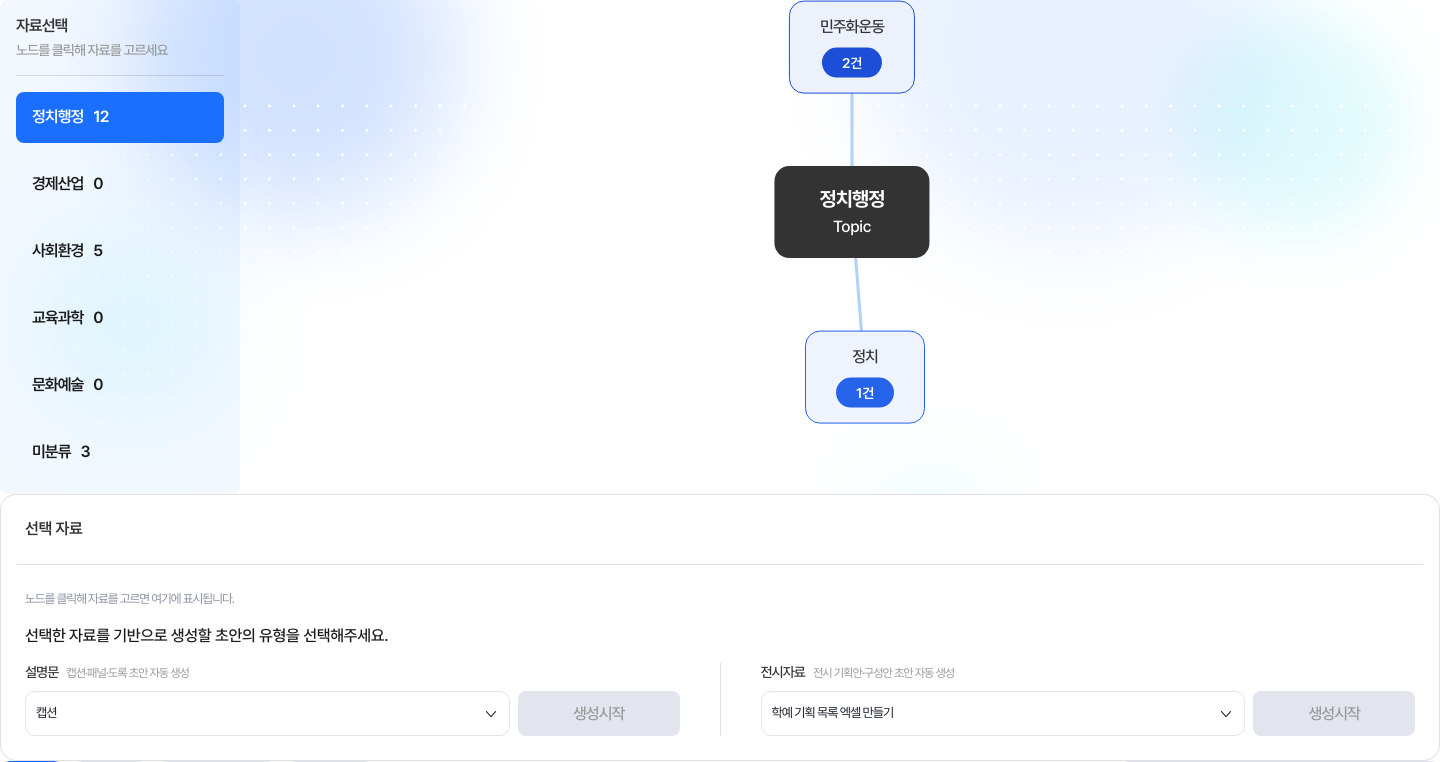
Test: 선택 → 생성 › 노드 선택이 칩과 건수로 올라온다
What coordinates should you click on to do the following:
click the button "민주화운동 2건"
I would click on:
 (852, 47)
Its box is [789, 1, 915, 93].
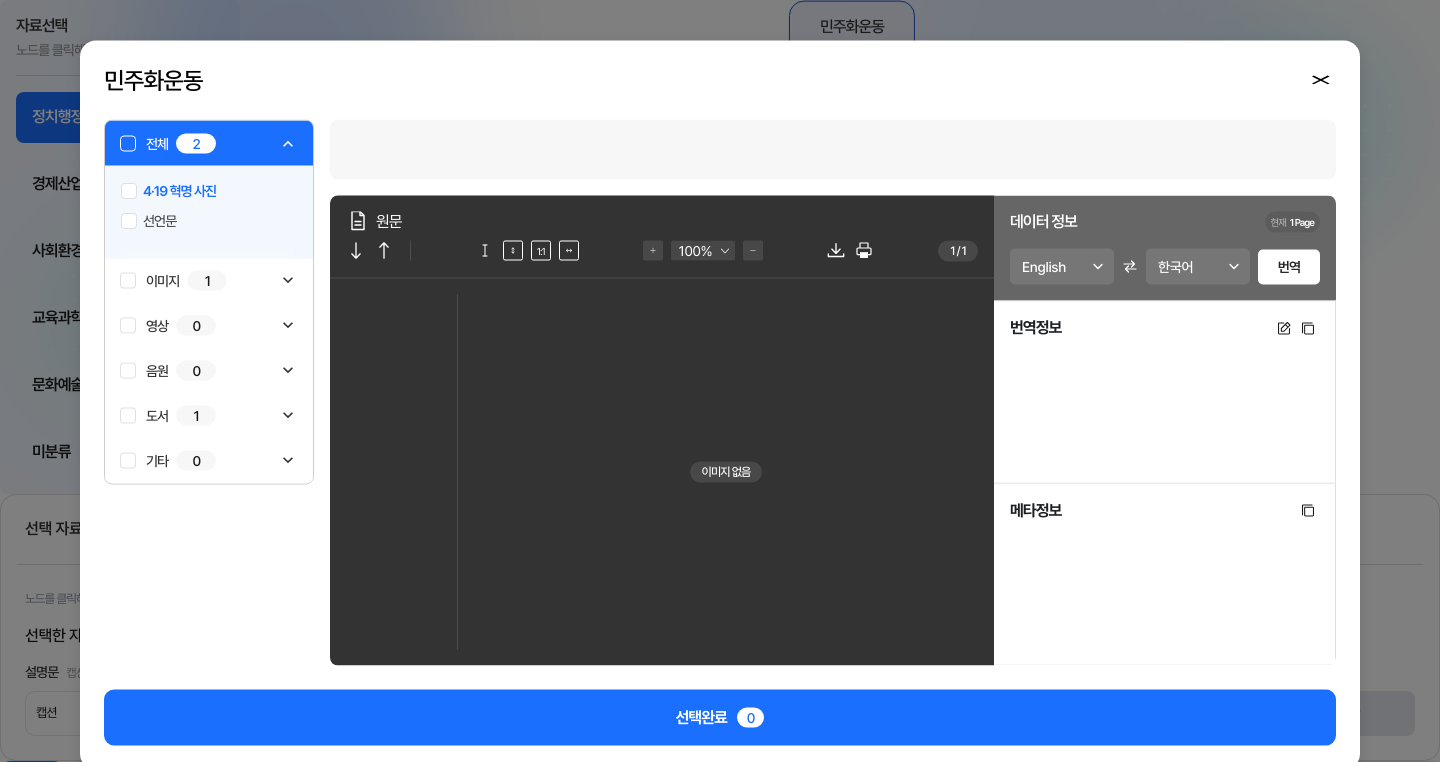
What coordinates should you click on to do the following:
click the checkbox named "전체 전체 선택"
I would click on:
 (128, 143)
Its box is [120, 135, 136, 151].
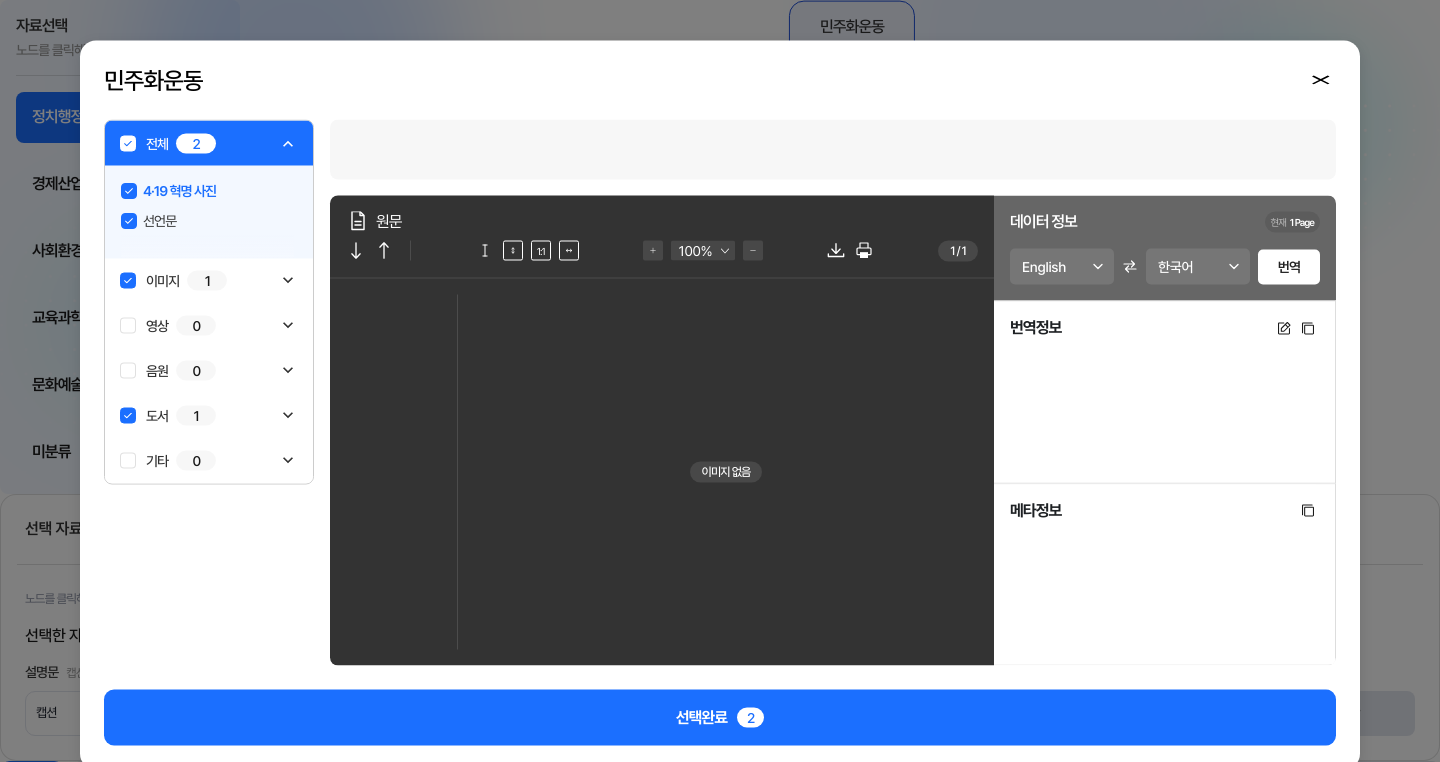
What coordinates should you click on to do the following:
click the button "선택완료 2"
I would click on:
 (720, 718)
Its box is [104, 690, 1336, 746].
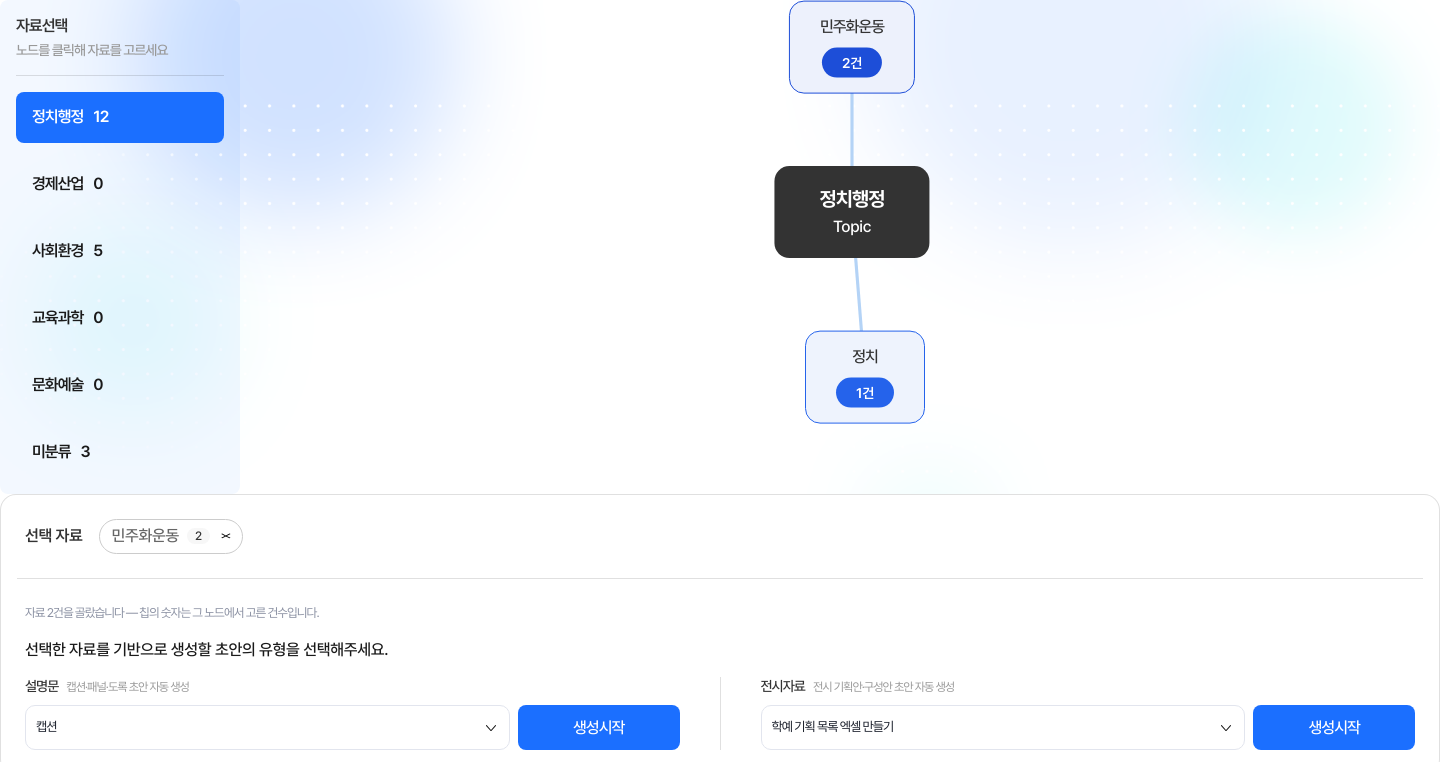
expect the text "자료 2건을 골랐습니다 — 칩의 숫자는 그 노드에서 고른 건수입니다." is shown: met, box [25, 605, 319, 620]
